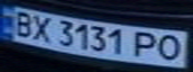1: (106, 26, 130, 56), (69, 20, 90, 51)
3: (51, 18, 75, 48), (87, 24, 109, 53)
B: (6, 9, 39, 38)
O: (151, 33, 187, 62)
P: (130, 29, 163, 58)
X: (27, 12, 57, 43)
